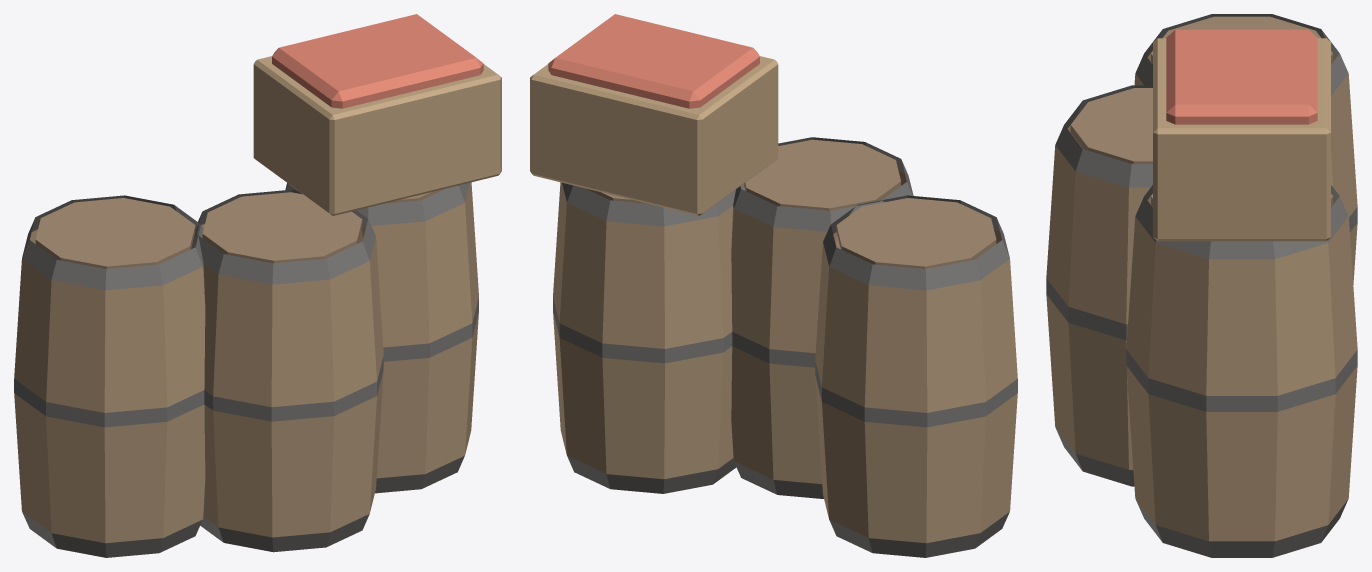
File: barrels.glb
3 views of the same model, side by side, from view 1: azimuth 30°, elevation 25°; view 2: azimuth 150°, elevation 25°; view 3: azimuth 270°, elevation 25° (orthographic). The views are drawn at different scales.
Parts seen in each view (by area): view 1: barrels; view 2: barrels; view 3: barrels.
Part boxes in pixels (box(x1,y1,x2,y2)): barrels: box(14, 14, 501, 557); barrels: box(530, 14, 1017, 557); barrels: box(1046, 14, 1357, 557).
Size of the model in its own units: 1.26 by 1.12 by 0.7.
